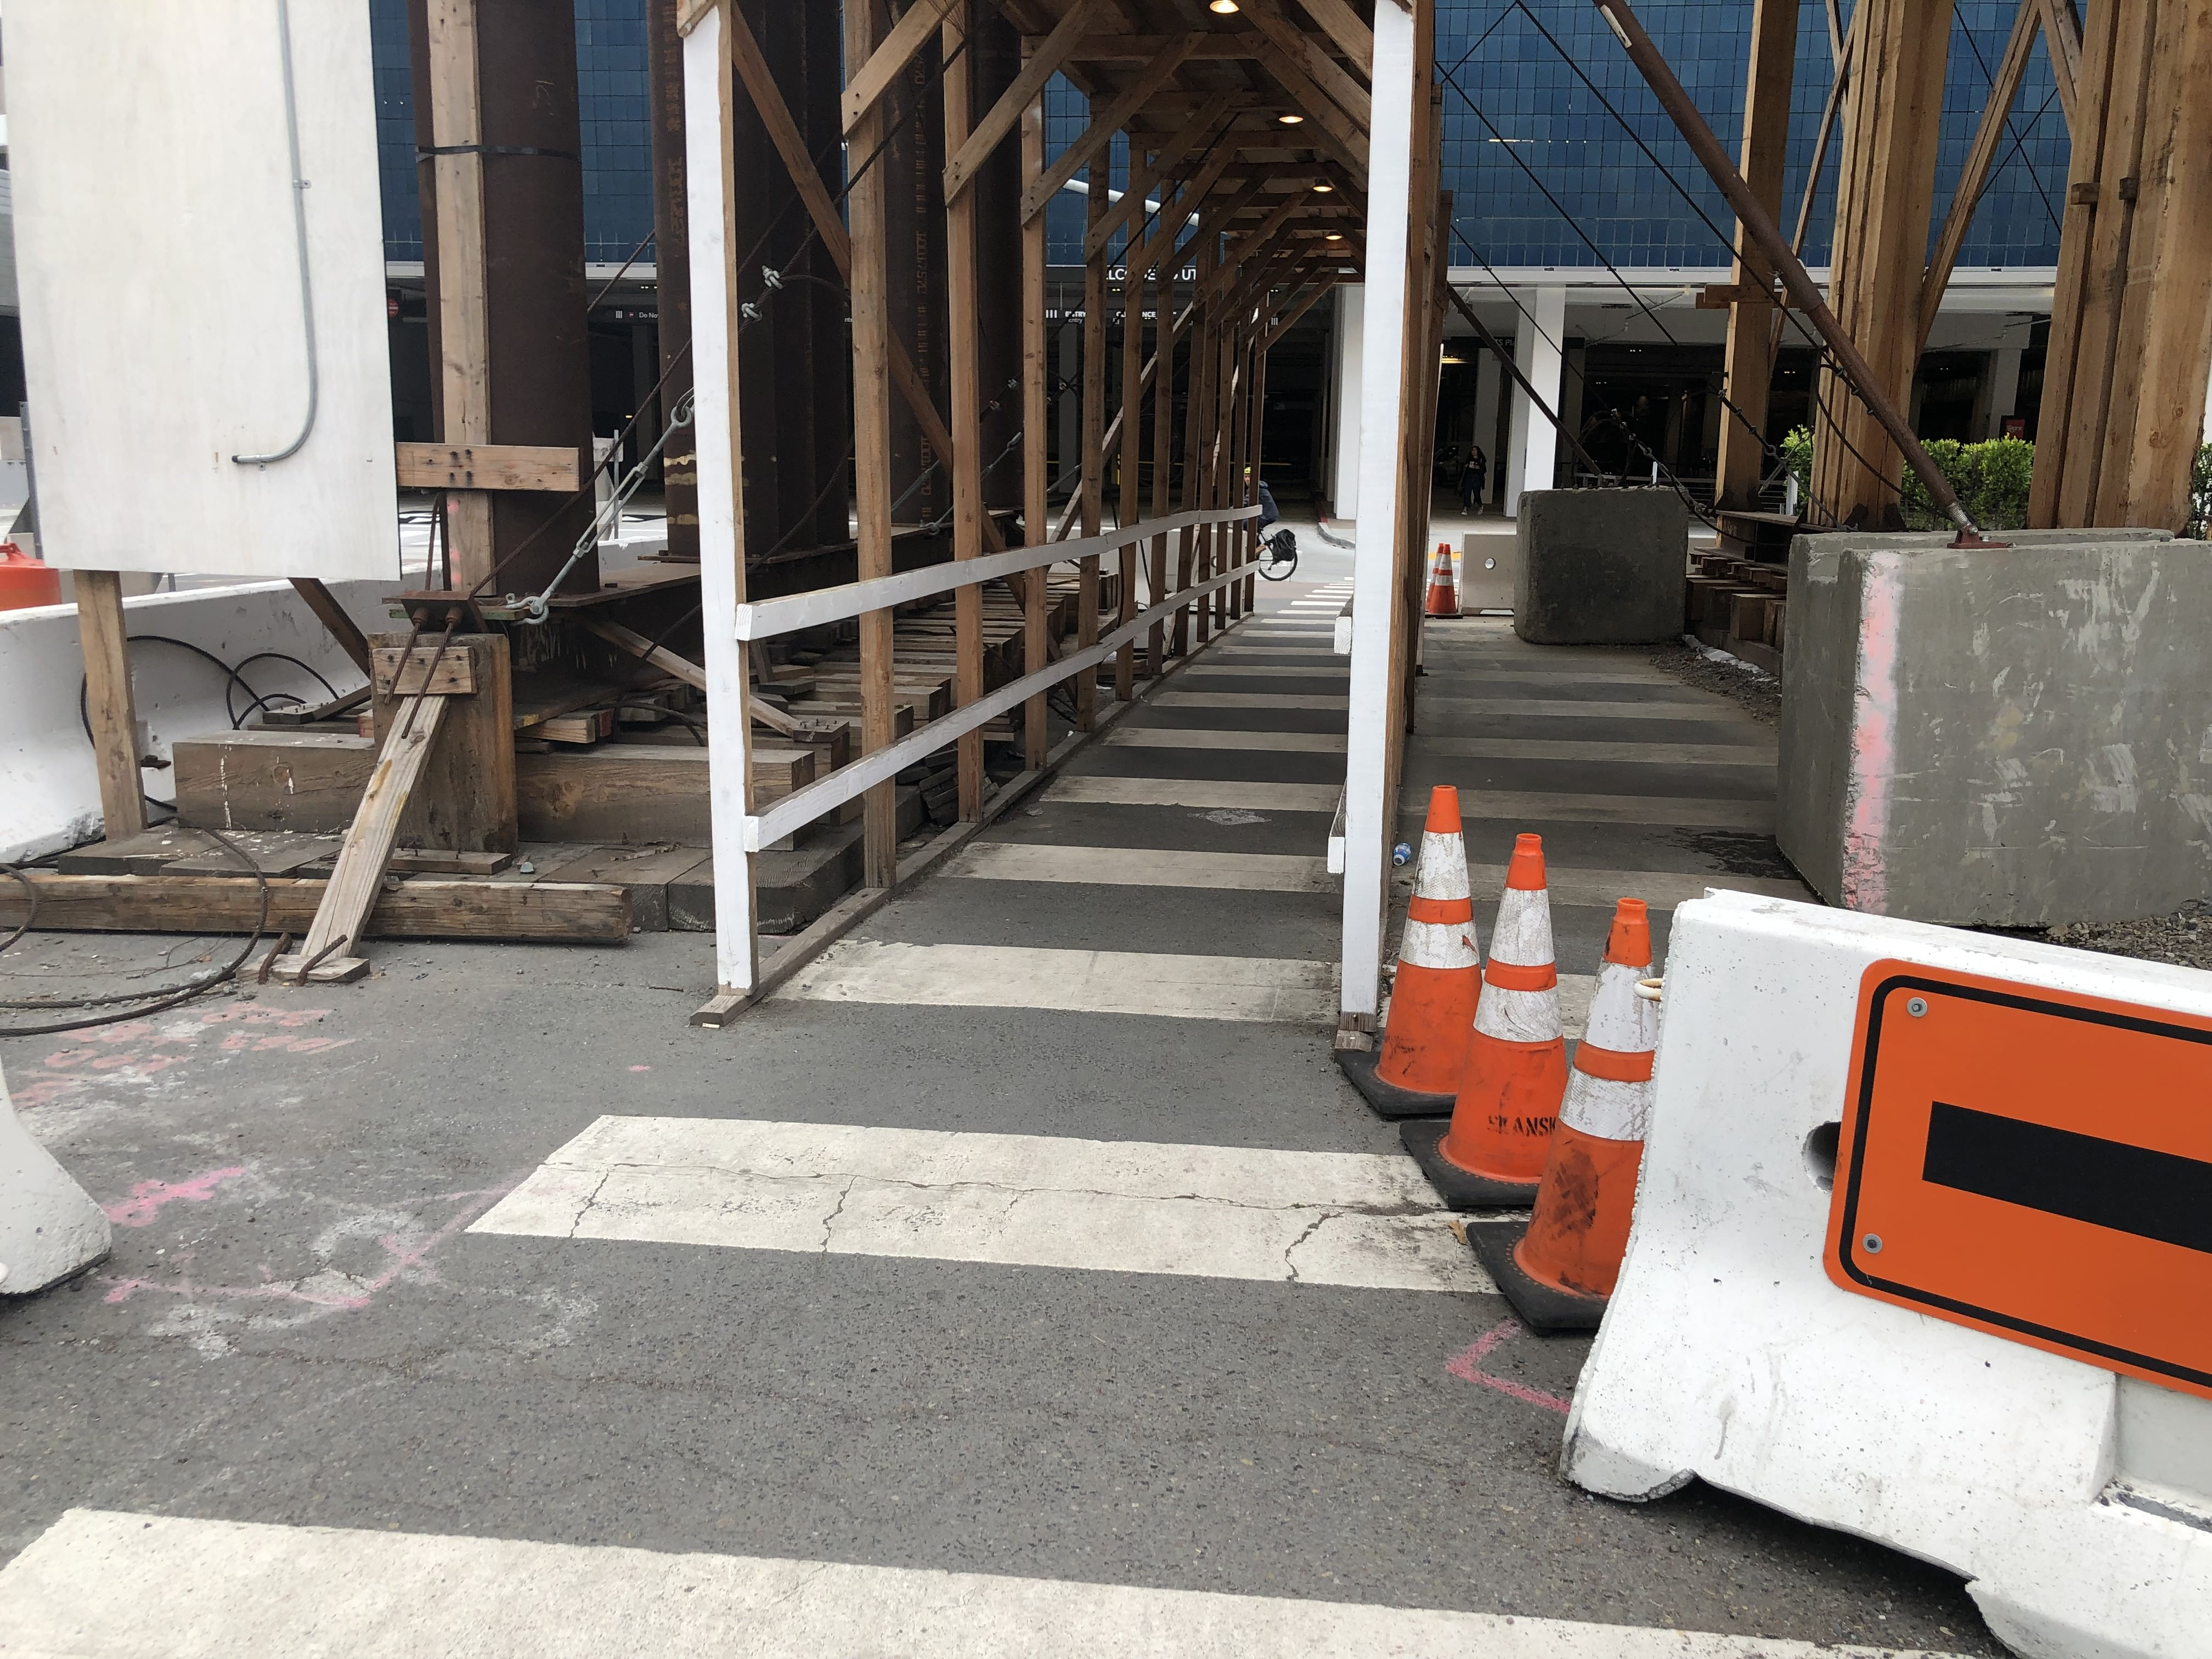Obstacle: (1379, 789, 2202, 1645), (674, 9, 1256, 1025), (3, 23, 587, 936), (1717, 28, 2167, 523), (1789, 530, 2186, 901), (1364, 24, 1421, 1061), (1500, 474, 1702, 641)
